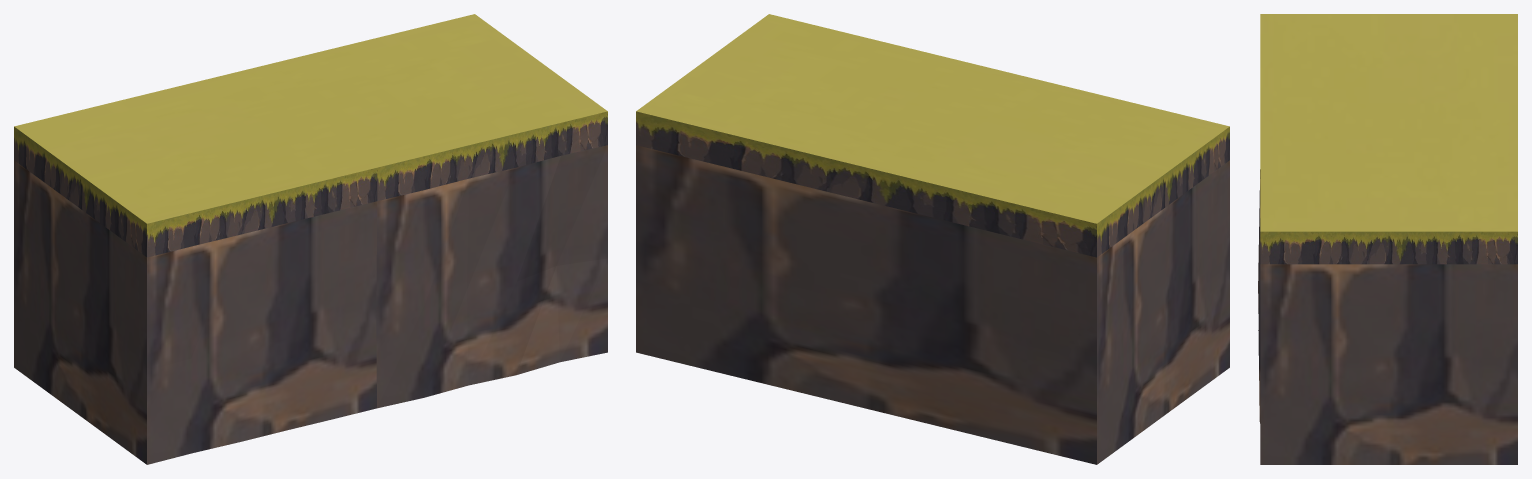
The model's file is rc_terrain_islandedge_straight_16m.glb.
The picture shows the model from 3 angles, left to right: view 1: azimuth 30°, elevation 25°; view 2: azimuth 150°, elevation 25°; view 3: azimuth 270°, elevation 25°; orthographic projection. The views are drawn at different scales.
Visible parts, largest first — view 1: SM_RC_Terrain_IslandEdge_Straight_16m; view 2: SM_RC_Terrain_IslandEdge_Straight_16m; view 3: SM_RC_Terrain_IslandEdge_Straight_16m.
Boxes of the visible parts, x1,y1,x2,y2 form: SM_RC_Terrain_IslandEdge_Straight_16m: [14, 14, 607, 464]; SM_RC_Terrain_IslandEdge_Straight_16m: [636, 14, 1229, 464]; SM_RC_Terrain_IslandEdge_Straight_16m: [1258, 14, 1517, 464].
Bounding box in the file's own units: 16 × 8 × 8.07.
Materials: 1 (1 with a texture image).
